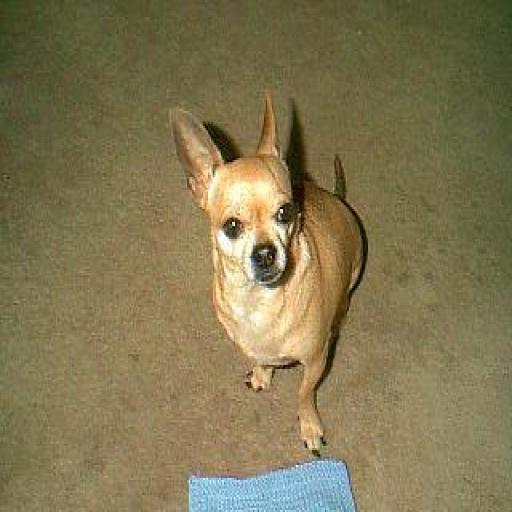dog_face: (168, 92, 294, 288)
